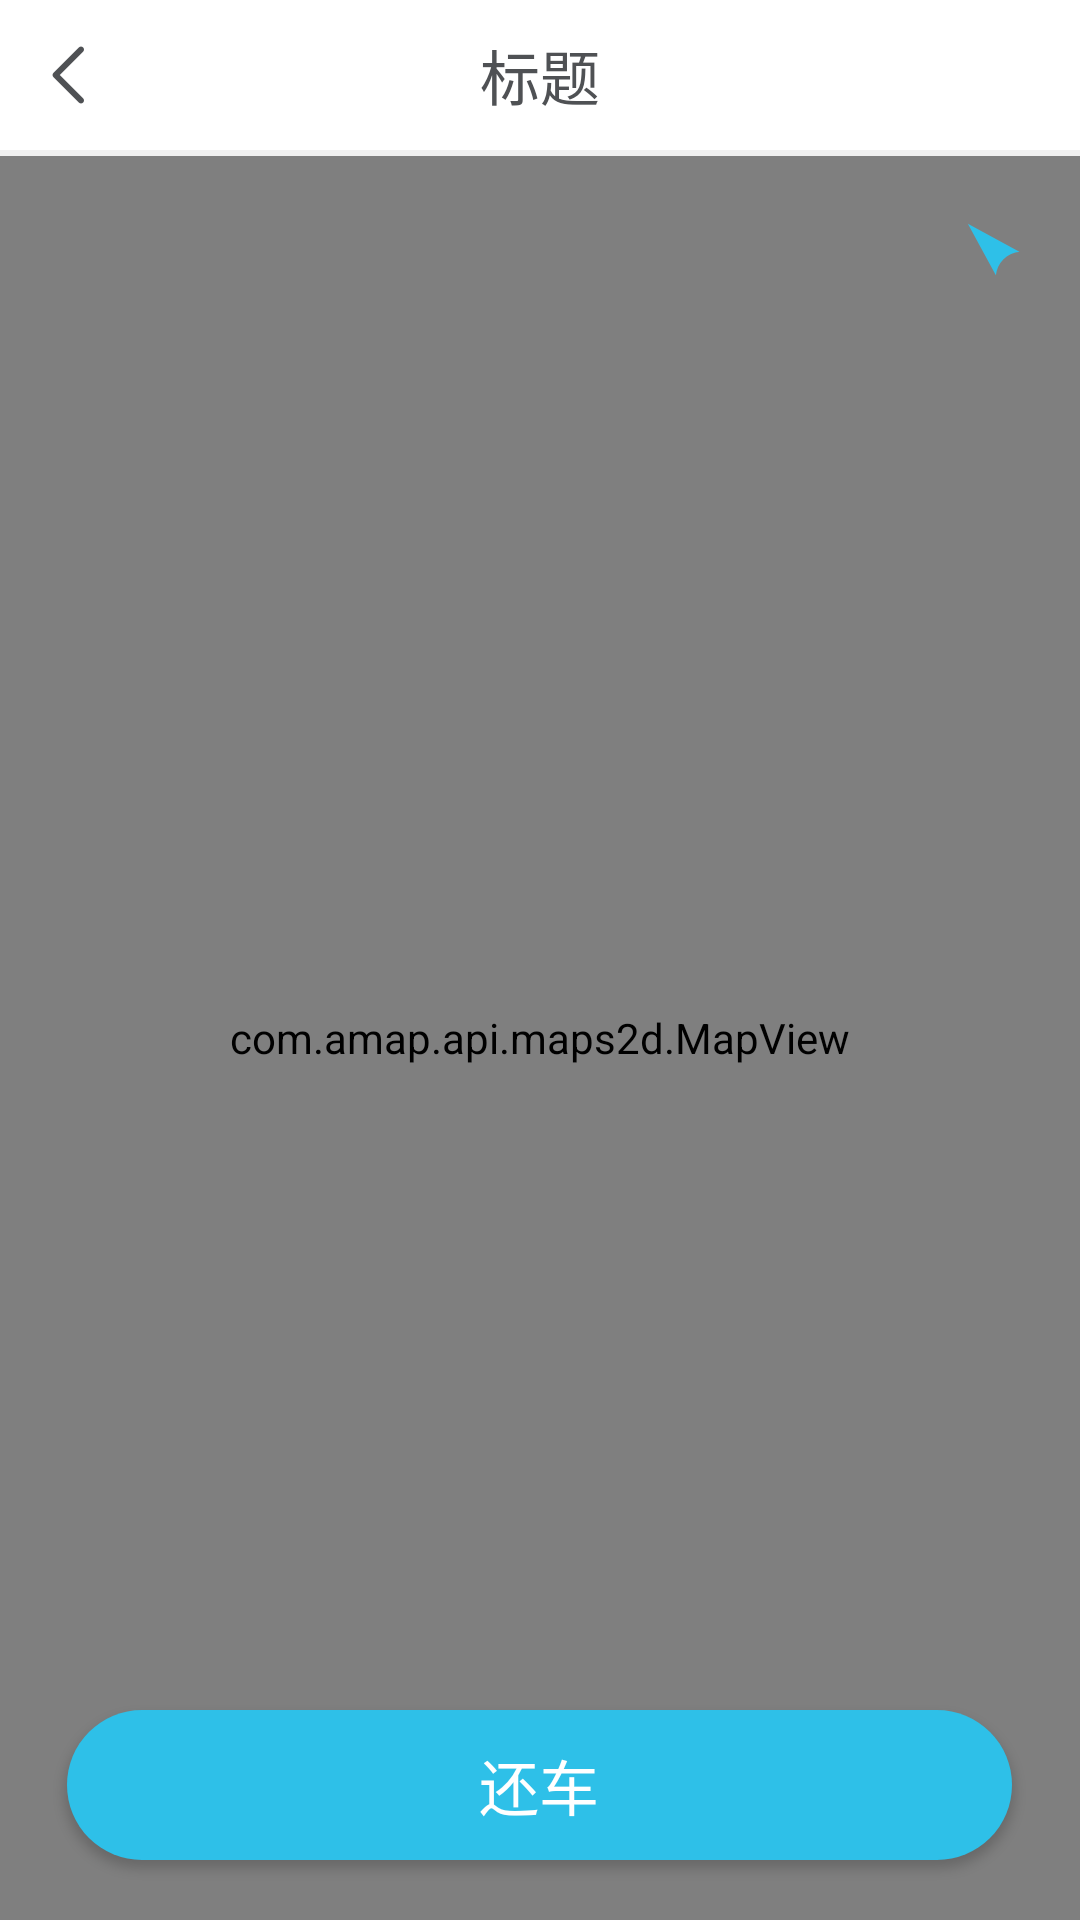

Icon bounding boxes for this 1080 × 1920 phone screenshot, format [x1,y1,x2,y2]:
back: [52,46,84,104]
